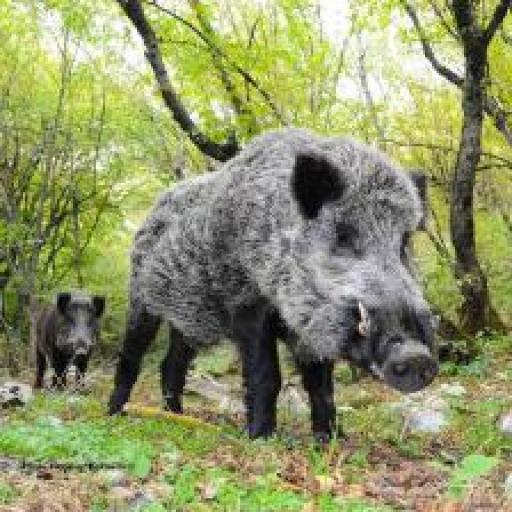Pig: (108, 128, 441, 440), (34, 290, 105, 389)
